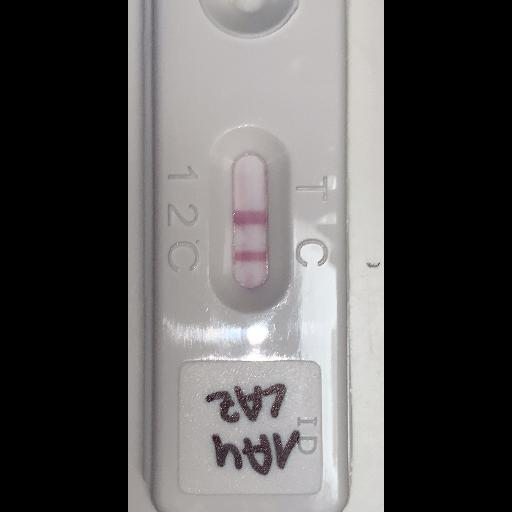Pos: (128, 0, 351, 505)
